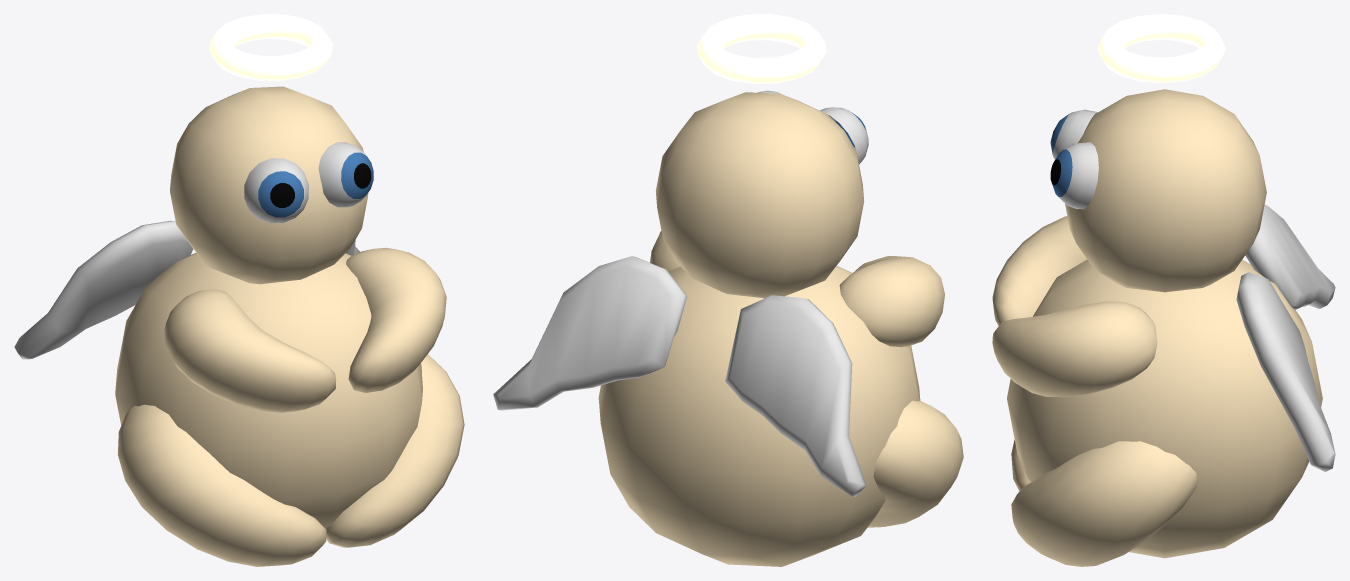
Rendered from Cherub.fbx.
The picture shows the model from 3 angles, left to right: view 1: azimuth 30°, elevation 25°; view 2: azimuth 150°, elevation 25°; view 3: azimuth 270°, elevation 25°; orthographic projection. The views are drawn at different scales.
Parts seen in each view (by area): view 1: Cube, Cube.002, Cube.004, Cube.001, Cube.003, Sphere.016, Torus; view 2: Cube, Cube.004, Cube.003, Cube.002, Cube.001, Torus, Sphere.016; view 3: Cube, Cube.004, Cube.001, Cube.002, Cube.003, Torus, Sphere.016.
Part boxes in pixels (bbox=[...]): Cube: bbox=[115, 253, 422, 528]; Cube.002: bbox=[117, 354, 464, 566]; Cube.004: bbox=[170, 86, 368, 284]; Cube.001: bbox=[164, 247, 446, 412]; Cube.003: bbox=[14, 220, 359, 359]; Sphere.016: bbox=[244, 142, 373, 223]; Torus: bbox=[209, 14, 333, 80]; Cube: bbox=[598, 266, 920, 566]; Cube.004: bbox=[656, 92, 864, 298]; Cube.003: bbox=[493, 256, 866, 496]; Cube.002: bbox=[868, 400, 963, 527]; Cube.001: bbox=[650, 231, 944, 347]; Torus: bbox=[696, 14, 826, 83]; Sphere.016: bbox=[758, 90, 868, 164]; Cube: bbox=[1007, 259, 1322, 558]; Cube.004: bbox=[1065, 89, 1266, 292]; Cube.001: bbox=[992, 216, 1157, 397]; Cube.002: bbox=[1011, 440, 1196, 566]; Cube.003: bbox=[1236, 205, 1335, 471]; Torus: bbox=[1097, 14, 1225, 83]; Sphere.016: bbox=[1050, 109, 1098, 209].
Size of the model in its own units: 61.52 by 81.32 by 50.26.
